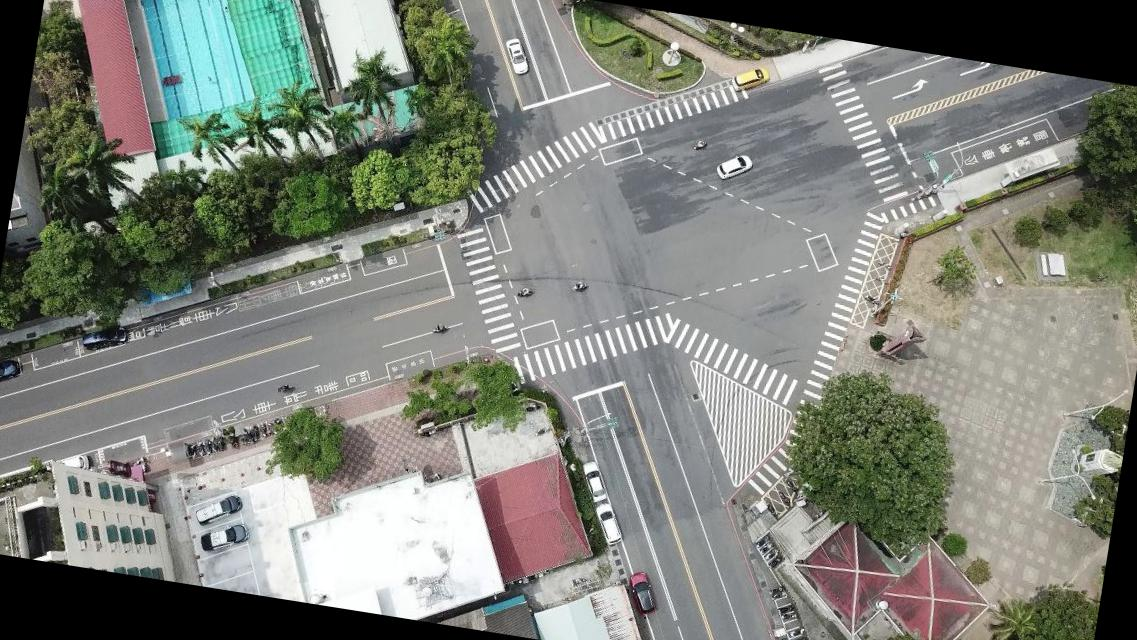vehicle: (198, 518, 251, 558), (193, 489, 244, 529), (623, 569, 661, 617), (588, 501, 628, 546), (80, 319, 128, 356), (498, 34, 534, 76), (579, 458, 612, 503), (729, 62, 771, 94), (714, 152, 754, 184), (49, 448, 91, 476), (0, 354, 24, 390)
